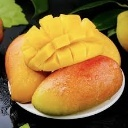mango: (32, 56, 121, 114)
